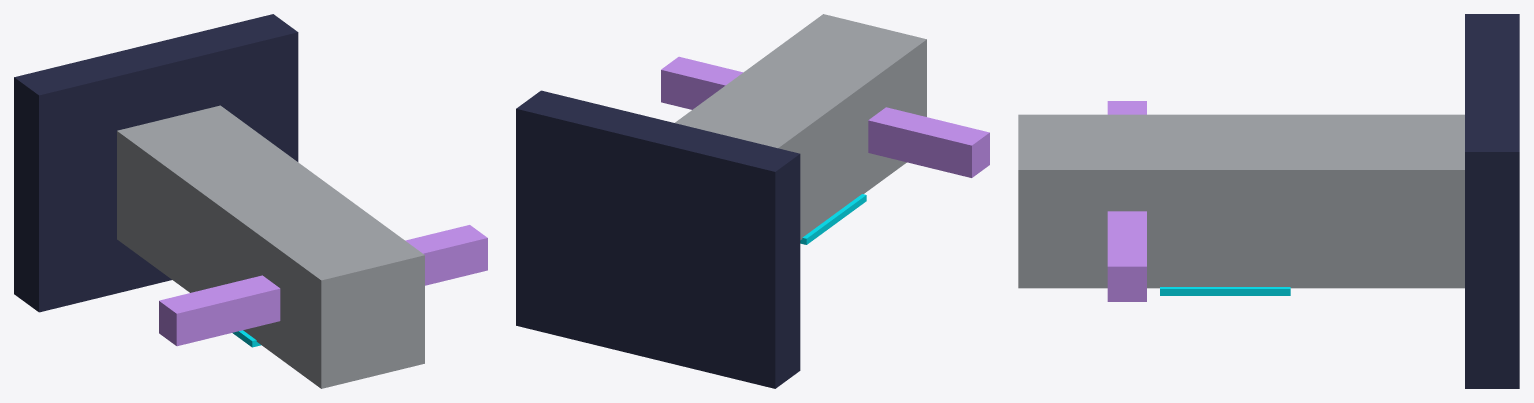
File: 01_event_arena_anchor.glb
3 views of the same model, side by side, from view 1: azimuth 30°, elevation 25°; view 2: azimuth 150°, elevation 25°; view 3: azimuth 270°, elevation 25° (orthographic). The views are drawn at different scales.
Parts seen in each view (by area): view 1: tower_body, city_plinth, skybridge; view 2: city_plinth, tower_body, skybridge, neon_panel_a; view 3: tower_body, city_plinth, skybridge, neon_panel_a.
Part boxes in pixels (x1,y1,x2,y2): tower_body: [117, 105, 424, 388]; city_plinth: [14, 14, 298, 312]; skybridge: [159, 225, 487, 346]; city_plinth: [516, 90, 800, 388]; tower_body: [675, 14, 926, 240]; skybridge: [661, 56, 989, 177]; neon_panel_a: [800, 194, 866, 244]; tower_body: [1018, 114, 1464, 288]; city_plinth: [1465, 14, 1519, 388]; skybridge: [1107, 101, 1146, 301]; neon_panel_a: [1160, 287, 1290, 295].
Bounding box in the file's own units: 1.8 × 1.2 × 2.3.
